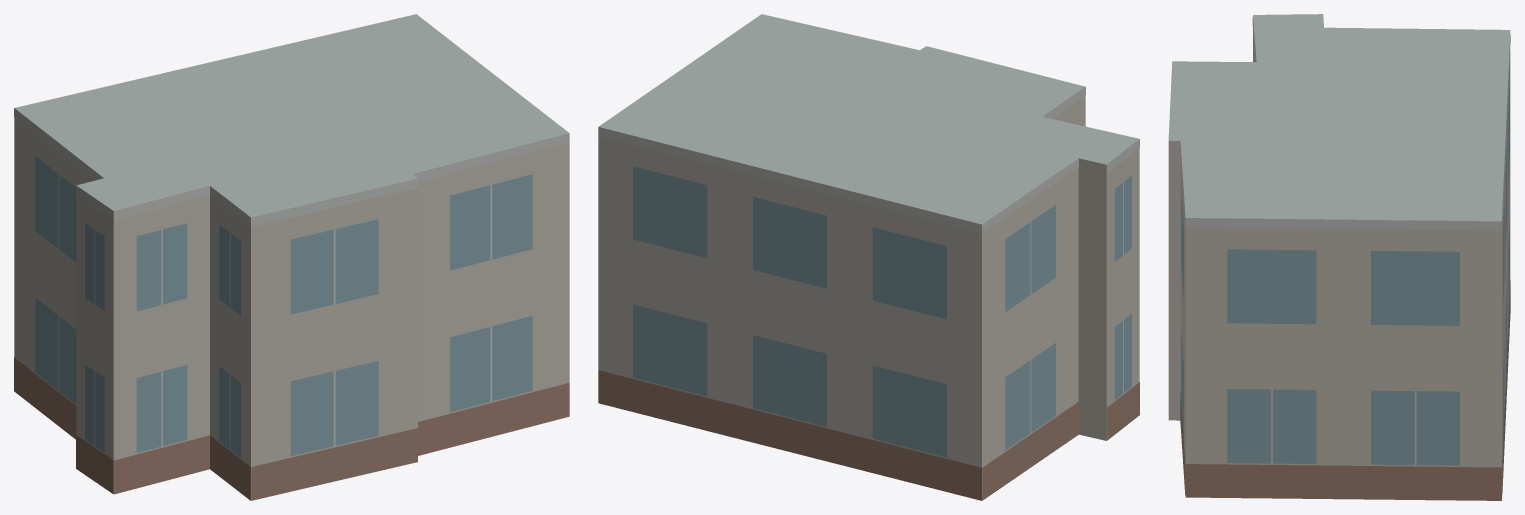
Rendered from survey-upis-32934240.glb.
3 views of the same model, side by side, from view 1: azimuth 30°, elevation 25°; view 2: azimuth 150°, elevation 25°; view 3: azimuth 270°, elevation 25° (orthographic). The views are drawn at different scales.
Visible parts, largest first — view 1: survey-upis-32934240.tmp; view 2: survey-upis-32934240.tmp; view 3: survey-upis-32934240.tmp.
Part boxes in pixels (box(x1,y1,x2,y2)): survey-upis-32934240.tmp: box(14, 14, 569, 500); survey-upis-32934240.tmp: box(598, 14, 1139, 500); survey-upis-32934240.tmp: box(1168, 14, 1510, 500).
Bounding box in the file's own units: 11.9 × 7.47 × 8.29.
